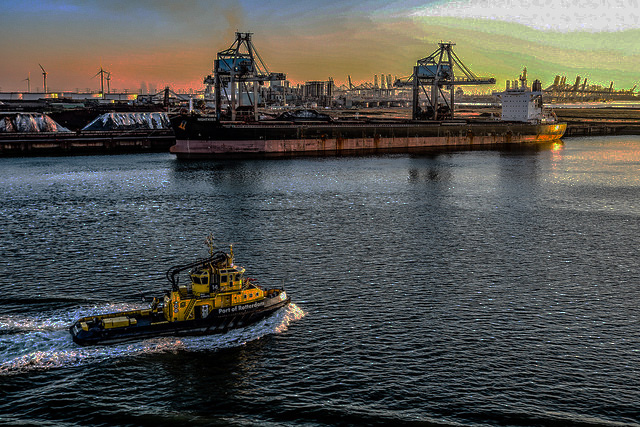bulk carrier: (159, 81, 569, 154)
tug_boat: (66, 250, 290, 347)
